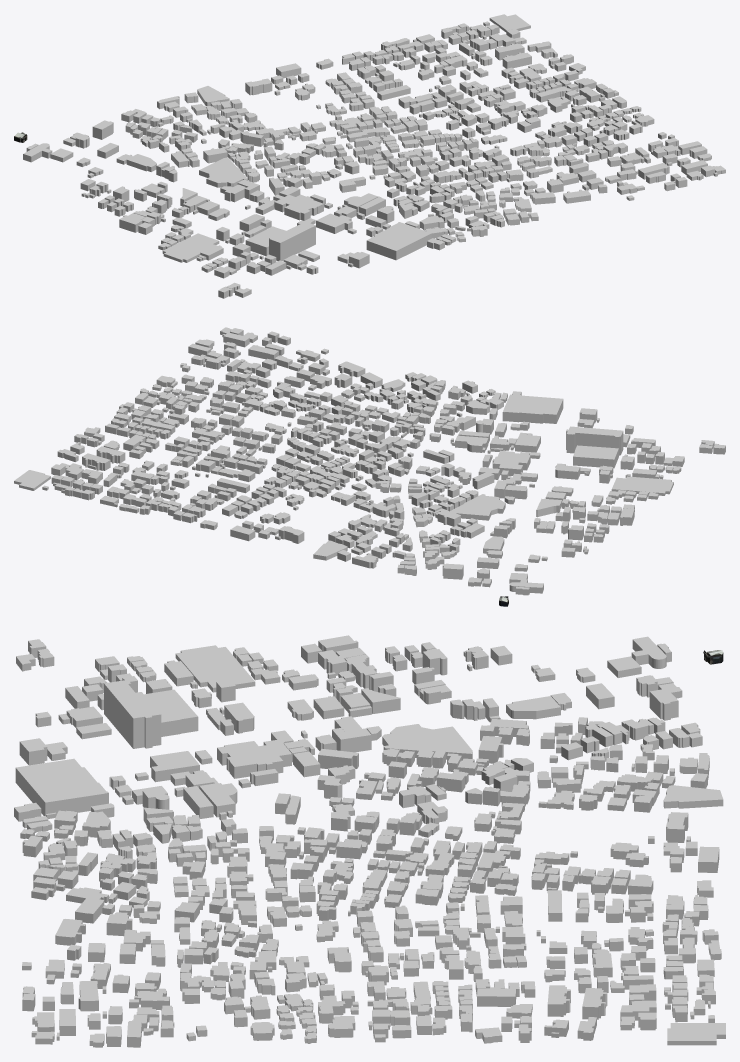
File: 2023-lod3-station-1-3-packed.glb
3 views of the same model, one above another, from view 1: azimuth 30°, elevation 25°; view 2: azimuth 150°, elevation 25°; view 3: azimuth 270°, elevation 25° (orthographic). The views are drawn at different scales.
Bounding box in the file's own units: 616 × 22.75 × 458.
Materials: 2 (1 with a texture image).
